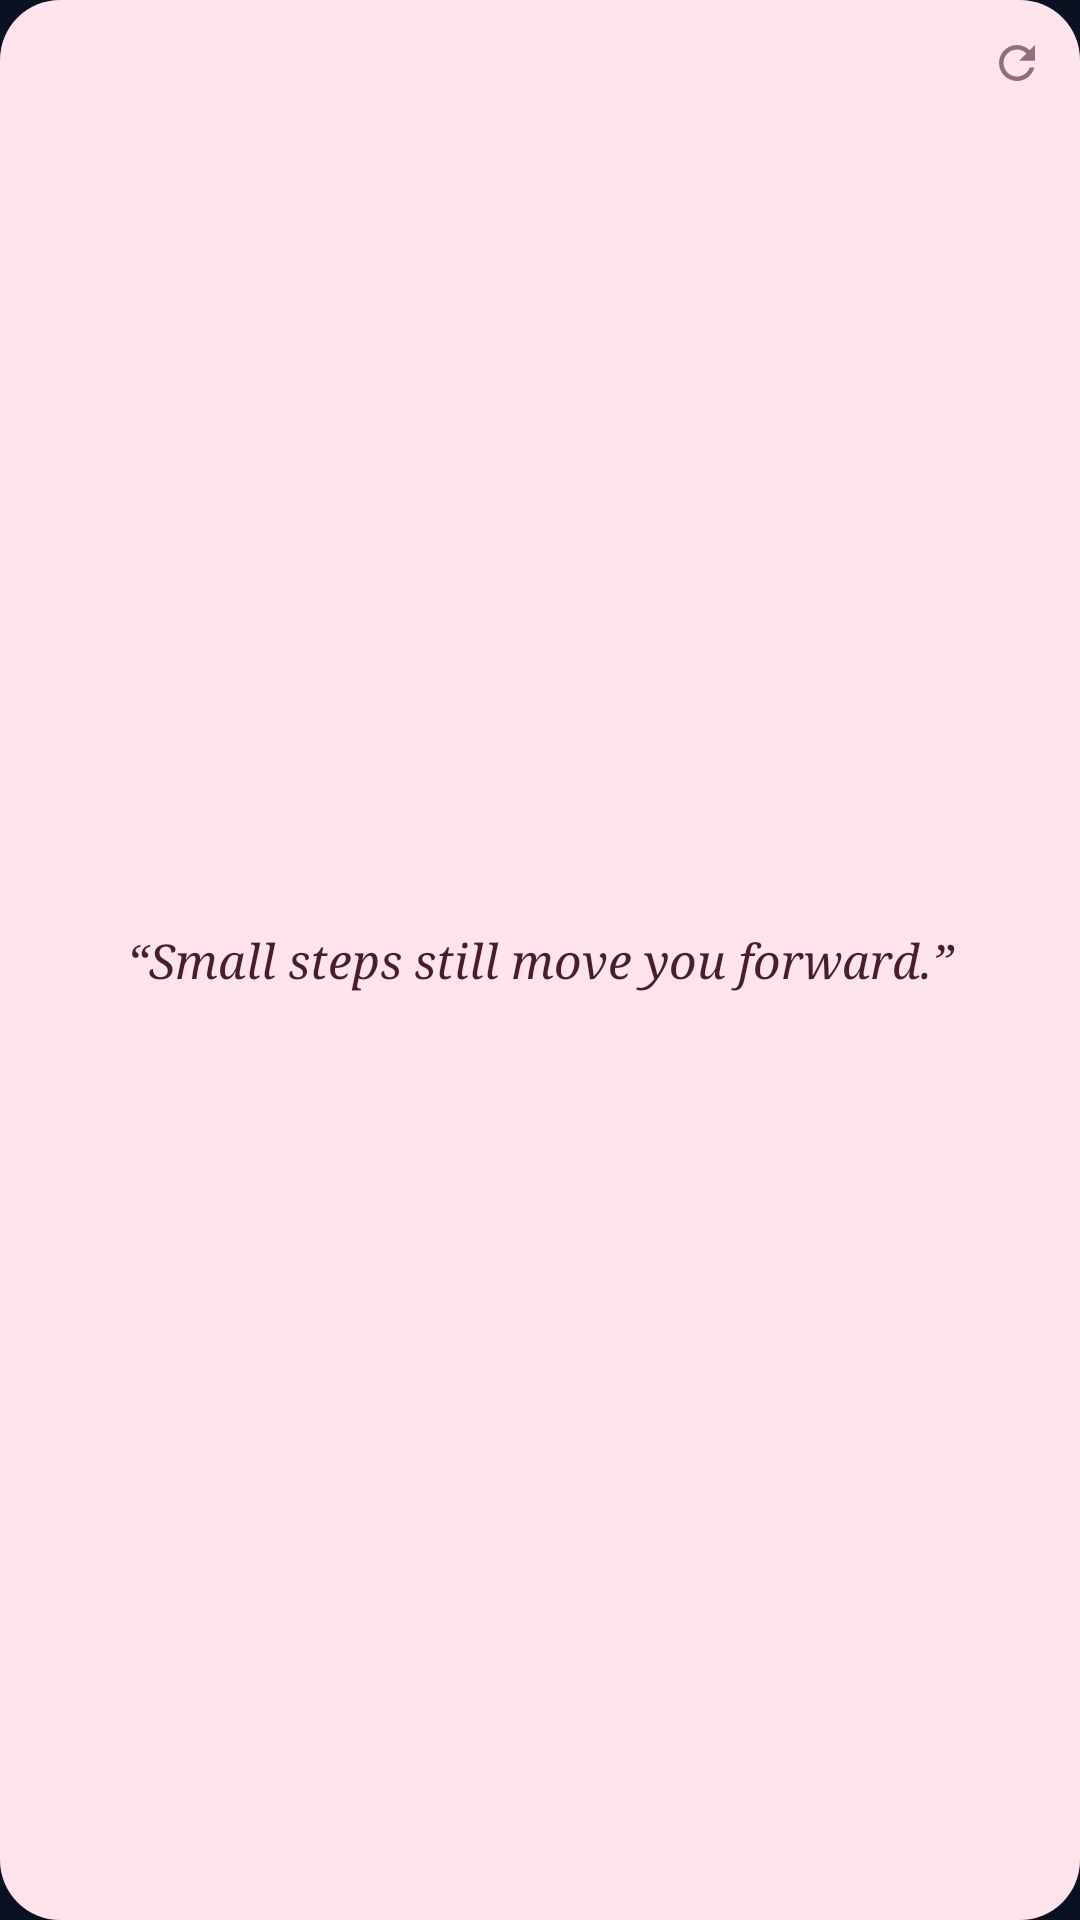

Where icons sit on this 1080w x 1920h app screen, as box=[x1, y1, x2, y2]:
refresh: box=[999, 45, 1035, 81]
